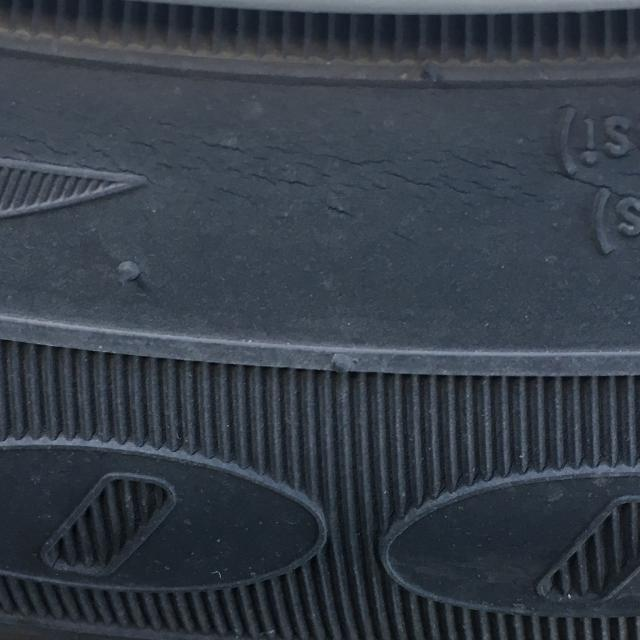Cracks: (0, 84, 640, 270)
Non-defective: (0, 336, 640, 640)
